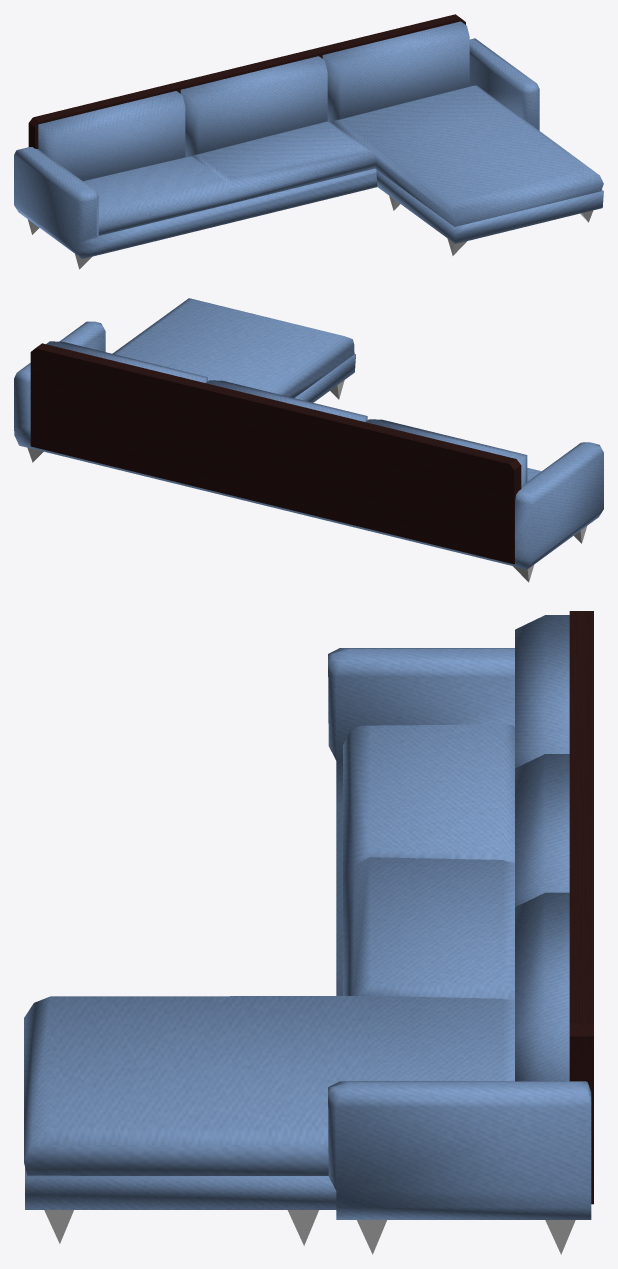
Rendered from Chaise_Sofa_A_08.FBX.
3 views of the same model, one above another, from view 1: azimuth 30°, elevation 25°; view 2: azimuth 150°, elevation 25°; view 3: azimuth 270°, elevation 25° (orthographic). The views are drawn at different scales.
Parts seen in each view (by area): view 1: Chaise_Sofa_A; view 2: Chaise_Sofa_A; view 3: Chaise_Sofa_A.
Boxes of the visible parts, box(x1,y1,x2,y2) form: Chaise_Sofa_A: box(14, 14, 603, 269); Chaise_Sofa_A: box(14, 298, 603, 582); Chaise_Sofa_A: box(24, 611, 593, 1254).
Bounding box in the file's own units: 685 × 157 × 366.
